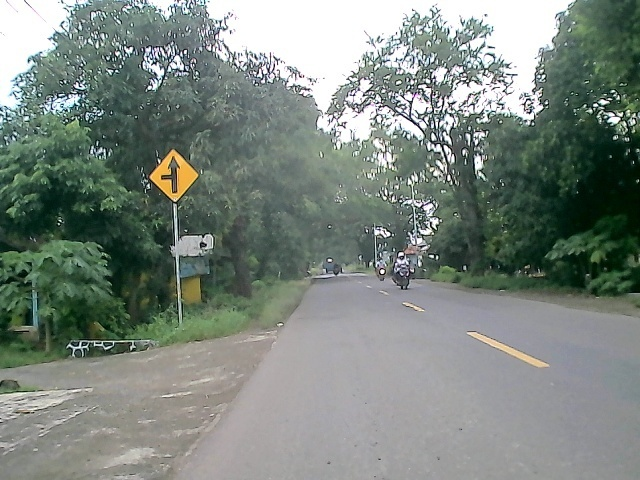Simpang kiri dengan prioritas: (142, 149, 199, 203)
